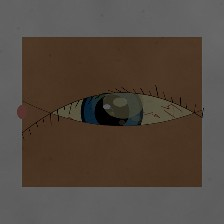corneal_ulcer: (90, 76, 156, 130)
